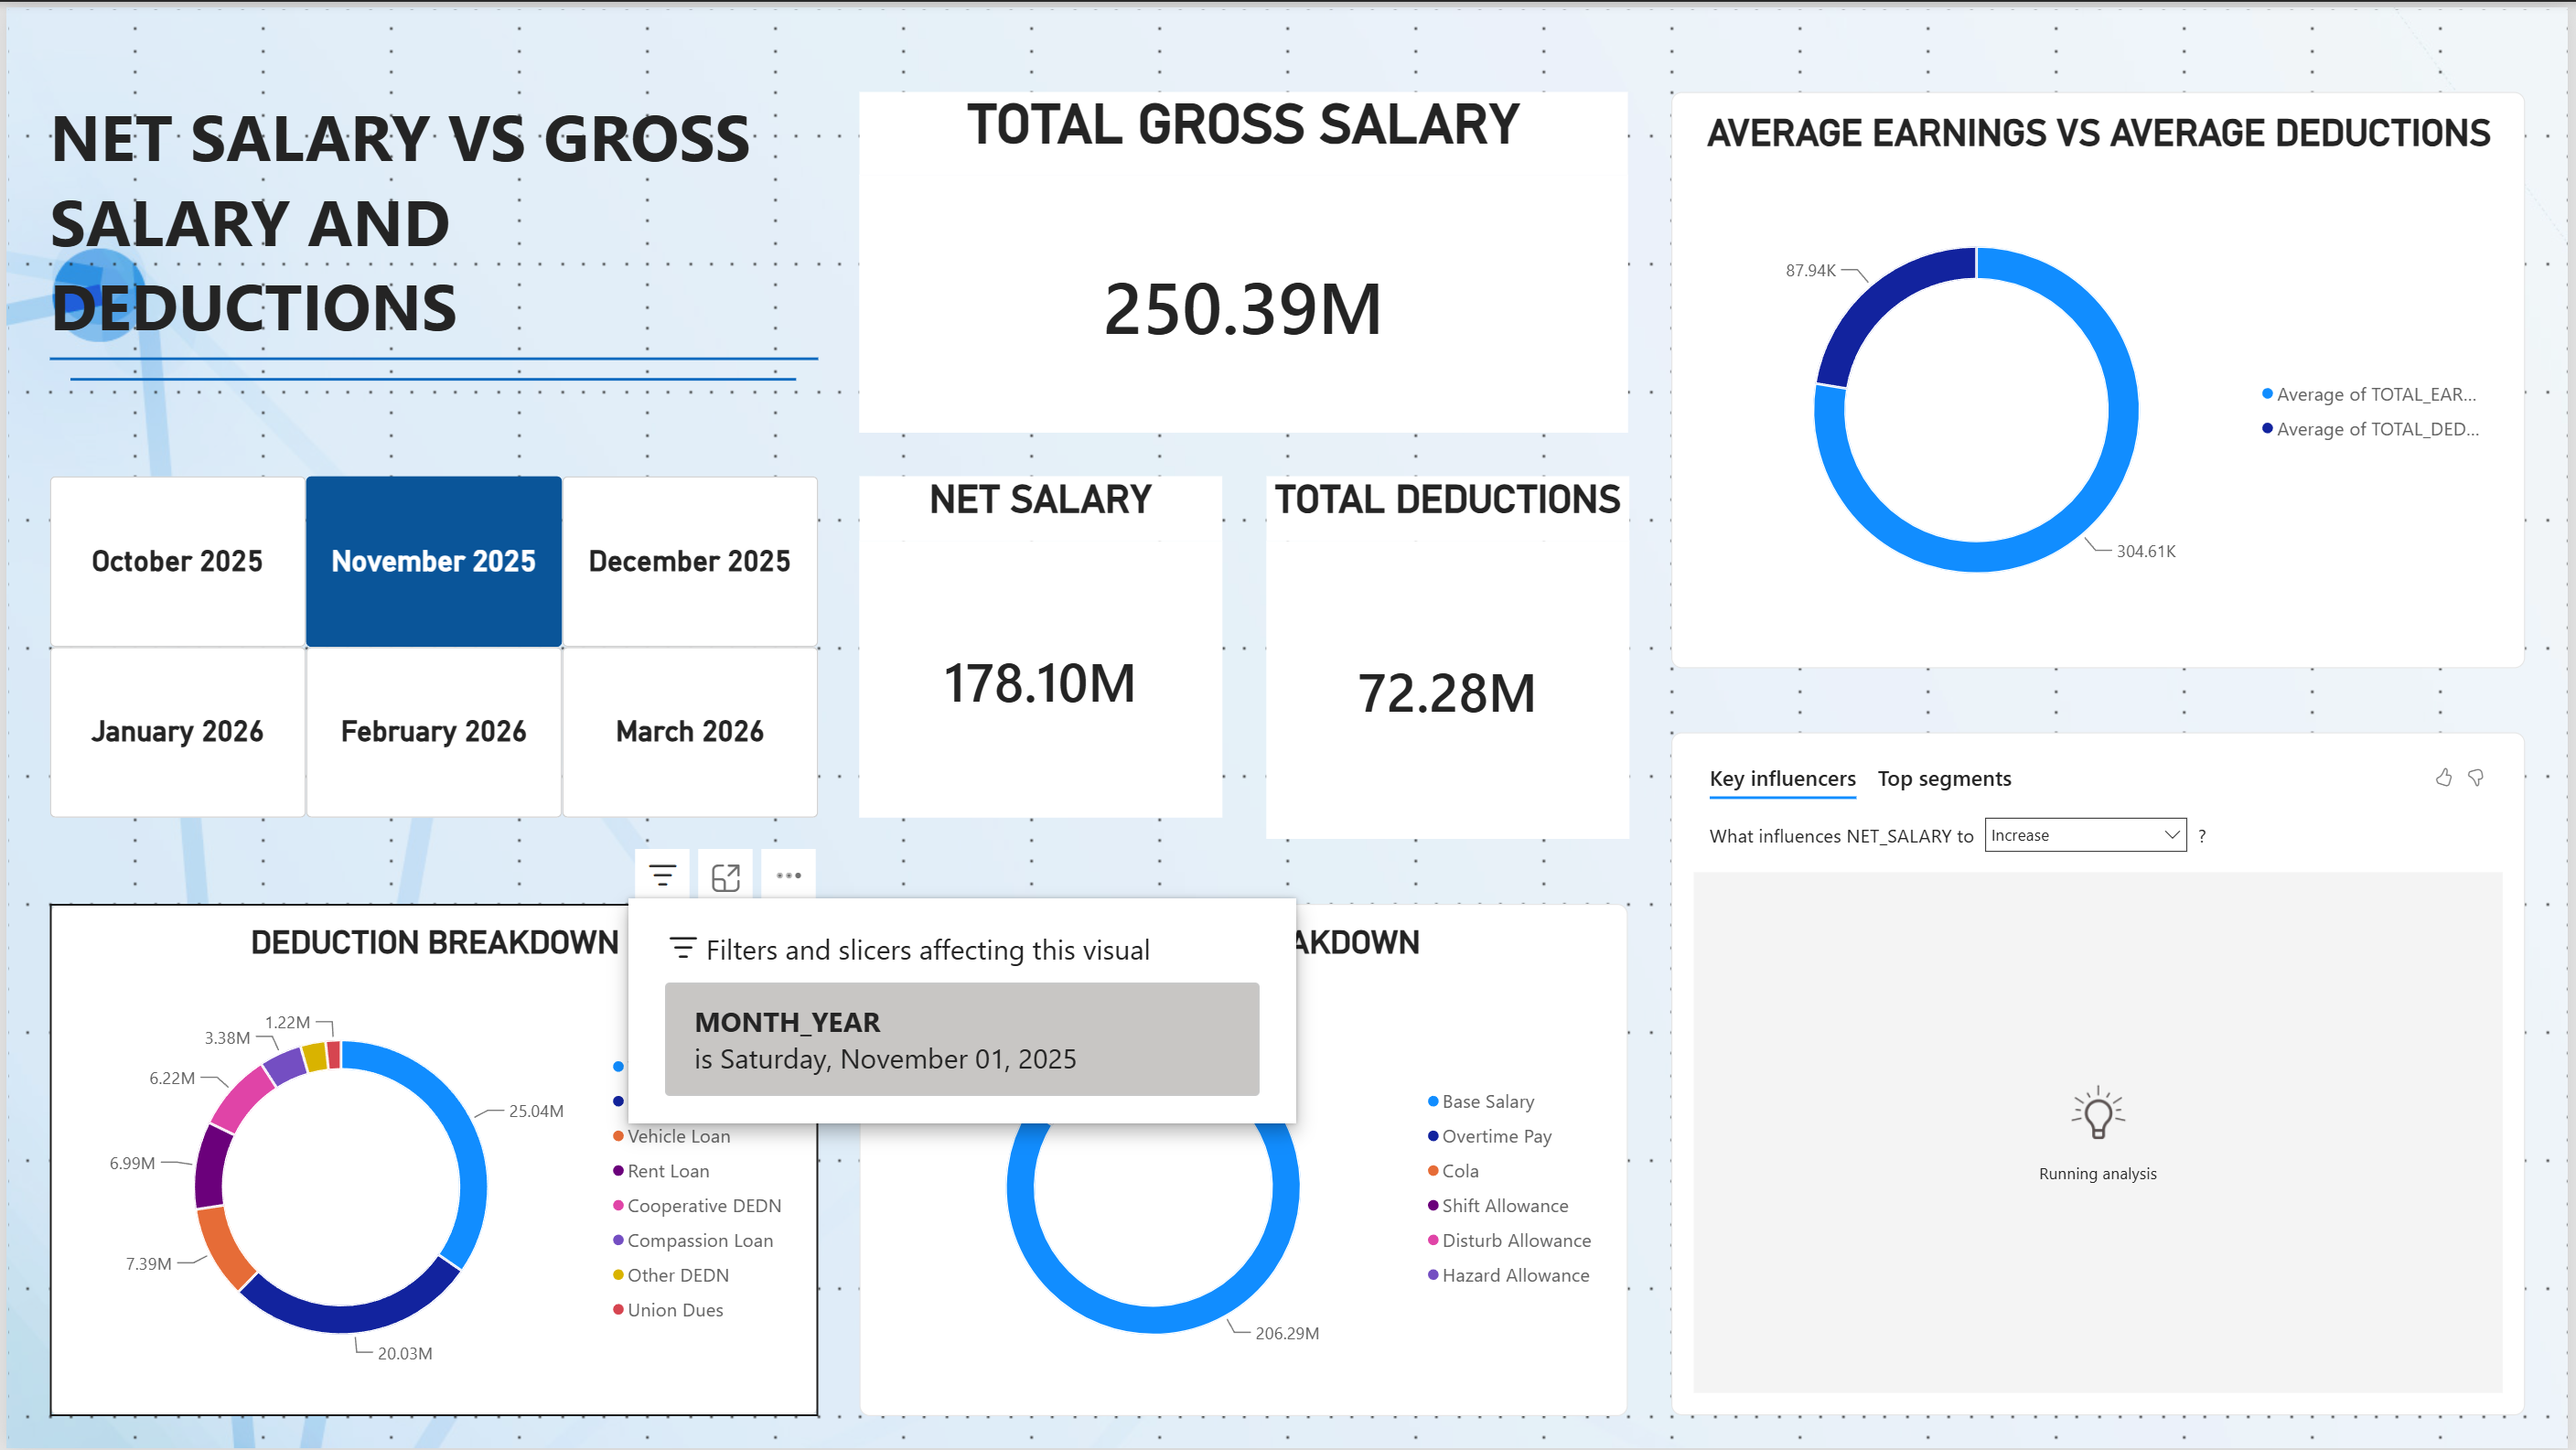

This screenshot's page, from the dashboard's own definition file:
{"tool":"powerbi","page":{"name":"EARNINGS VS DEDUCTIONS","canvas":[1920,1080],"ordinal":2},"visuals":[{"type":"group","id":"g1","title":"Group 1","box":[32,64,576,368],"z":0},{"type":"advancedSlicerVisual","fields":{"Values":["Salary Data.MONTH_YEAR"]},"box":[32,352,576,256],"z":1000},{"type":"cardVisual","title":"TOTAL GROSS SALARY","fields":{"Data":["Sum(Salary Data.TOTAL_EARNINGS)"]},"box":[640,64,576,256],"z":2000},{"type":"cardVisual","title":"TOTAL DEDUCTIONS","fields":{"Data":["Sum(Salary Data.TOTAL_DEDUCTIONS)"]},"box":[944,352,272,272],"z":3000},{"type":"cardVisual","title":"NET SALARY","fields":{"Data":["Gross Sal and Dedn.Net Salary"]},"box":[640,352,272,256],"z":4000},{"type":"donutChart","title":"DEDUCTION BREAKDOWN","fields":{"Category":["FACT_deductions.Type"],"Y":["FACT_deductions.FACT_deductions Value"]},"box":[32,672,576,384],"z":5000},{"type":"donutChart","title":"EARNINGS BREAKDOWN","fields":{"Y":["FACT_Earnings.Fact_Earnings"],"Category":["FACT_Earnings.Type"]},"box":[640,672,576,384],"z":6000},{"type":"donutChart","title":"AVERAGE EARNINGS VS AVERAGE DEDUCTIONS","fields":{"Y":["Avg(Salary Data.TOTAL_EARNINGS)","Avg(Salary Data.TOTAL_DEDUCTIONS)"]},"box":[1248,64,640,432],"z":7000},{"type":"textbox","box":[32,64,576,256],"z":8000,"group":"g1"},{"type":"keyDriversVisual","fields":{"Target":["Salary Data.NET_SALARY"],"ExplainBy":["Sum(Salary Data.TOTAL_DEDUCTIONS)","Sum(Salary Data.TOTAL_EARNINGS)"]},"box":[1248,544,640,512],"z":8000},{"type":"shape","box":[32,112,576,304],"z":9000,"group":"g1"},{"type":"shape","box":[48,128,544,304],"z":10000,"group":"g1"}]}

Visuals, with their boxes in screenshot pixels (x1, y1, x2, y2), scaled from the page's 1920x1080 canvas onto the 2576x1450 screenshot:
"Group 1" group: [left=43, top=86, right=816, bottom=580]
advancedSlicerVisual - Salary Data.MONTH_YEAR: [left=43, top=473, right=816, bottom=816]
"TOTAL GROSS SALARY" cardVisual: [left=859, top=86, right=1631, bottom=430]
"TOTAL DEDUCTIONS" cardVisual: [left=1267, top=473, right=1631, bottom=838]
"NET SALARY" cardVisual: [left=859, top=473, right=1224, bottom=816]
"DEDUCTION BREAKDOWN" donutChart: [left=43, top=902, right=816, bottom=1418]
"EARNINGS BREAKDOWN" donutChart: [left=859, top=902, right=1631, bottom=1418]
"AVERAGE EARNINGS VS AVERAGE DEDUCTIONS" donutChart: [left=1674, top=86, right=2533, bottom=666]
textbox: [left=43, top=86, right=816, bottom=430]
keyDriversVisual - Salary Data.NET_SALARY x Sum(Salary Data.TOTAL_DEDUCTIONS): [left=1674, top=730, right=2533, bottom=1418]
shape: [left=43, top=150, right=816, bottom=559]
shape: [left=64, top=172, right=794, bottom=580]
